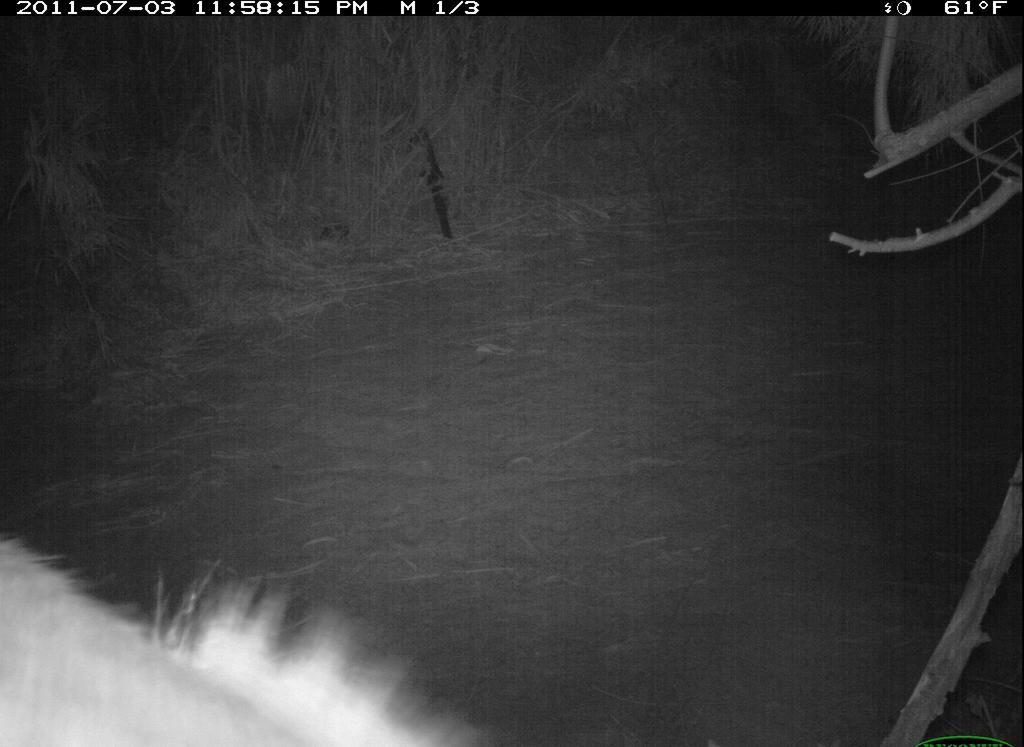raccoon: (4, 500, 503, 747)
